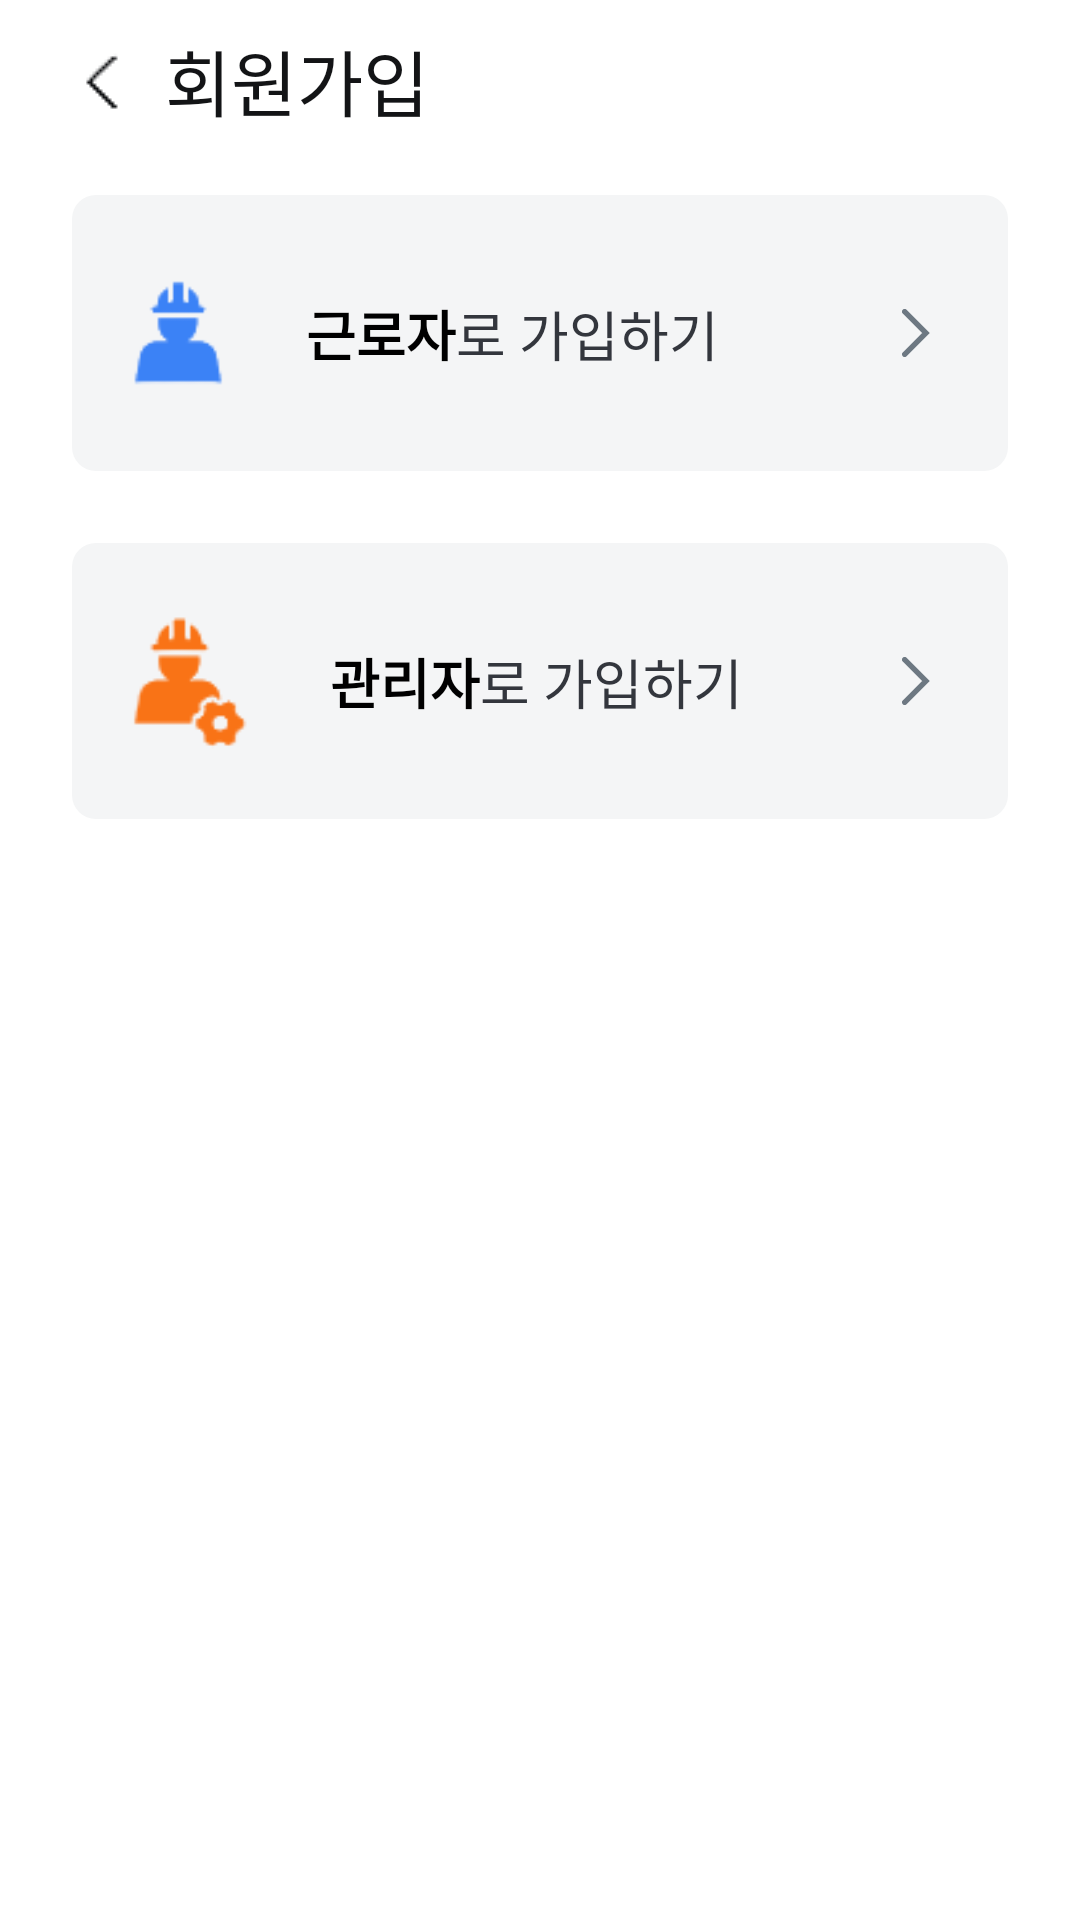

Where to tap for icons on this 1080 × 1920 app screen, as point (x, y):
back: point (102, 82)
manager: point (190, 681)
right arrow: point (916, 333), point (916, 681)
worker: point (178, 332)
